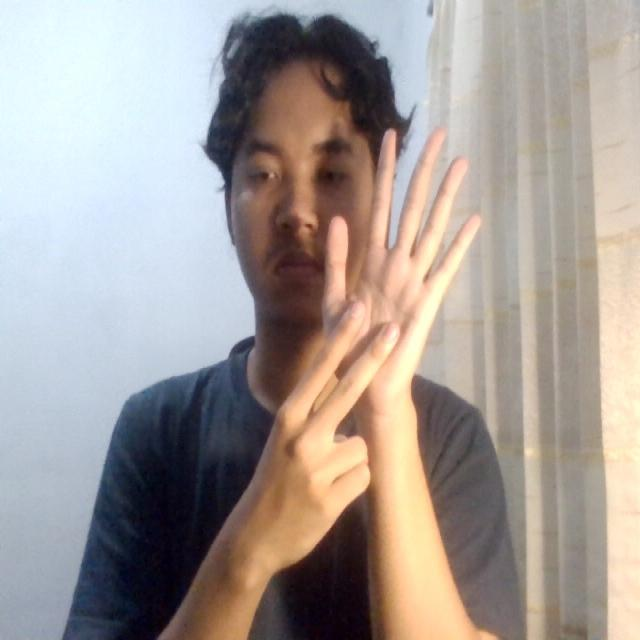IloveYou: (277, 121, 500, 518)
